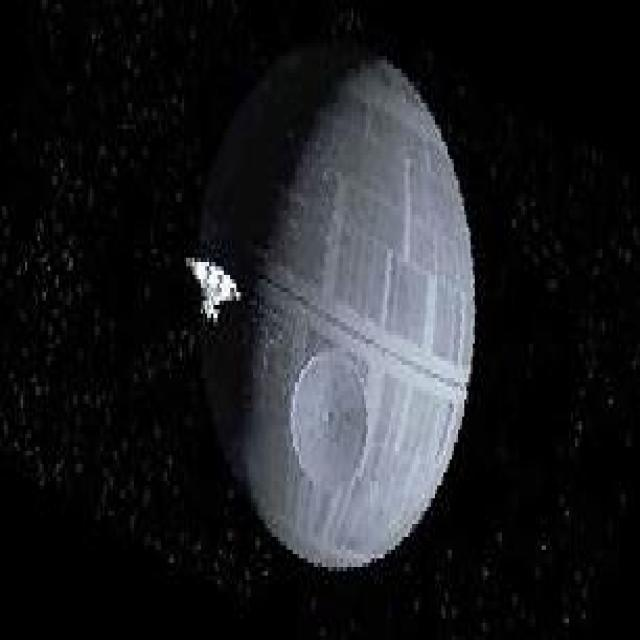Death Star: (182, 38, 481, 576)
